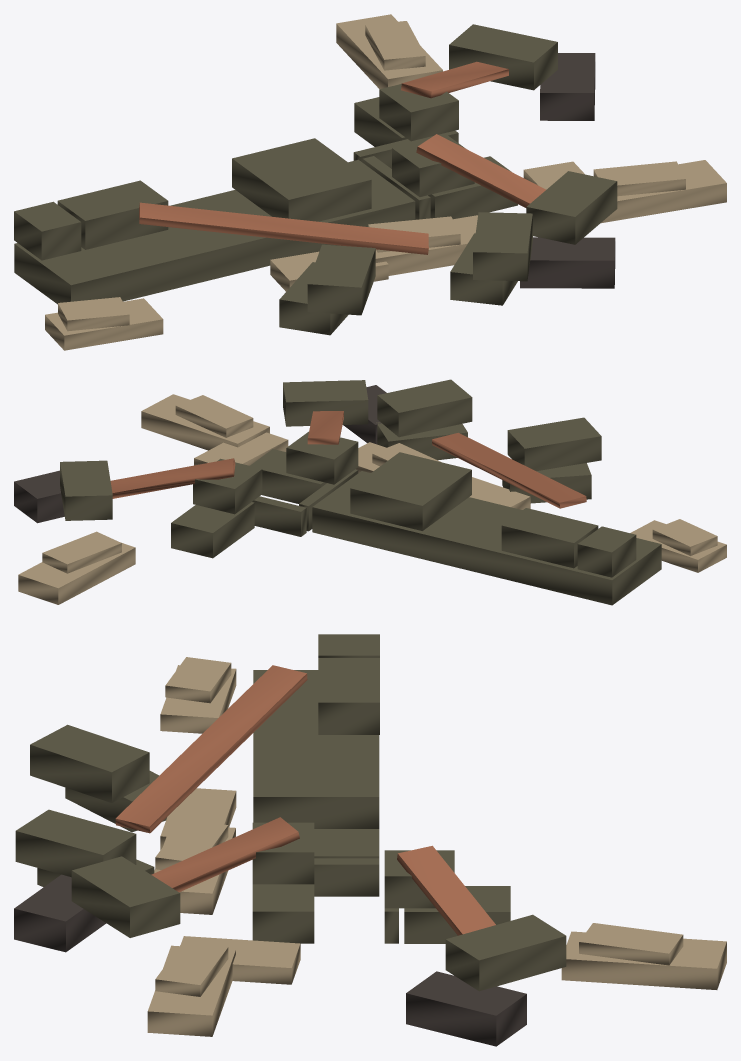
Rendered from SM_SacosRemateEspejo_v3_Tablon_e2_MuyDanado_LOD1.fbx.
The picture shows the model from 3 angles, top to bottom: view 1: azimuth 30°, elevation 25°; view 2: azimuth 150°, elevation 25°; view 3: azimuth 270°, elevation 25°; orthographic projection. The views are drawn at different scales.
Parts seen in each view (by area): view 1: SM_sacos_piezas_v34_LOD1; view 2: SM_sacos_piezas_v34_LOD1; view 3: SM_sacos_piezas_v34_LOD1.
Part boxes in pixels (<box>): SM_sacos_piezas_v34_LOD1: <box>14,14,726,350</box>; SM_sacos_piezas_v34_LOD1: <box>14,379,726,605</box>; SM_sacos_piezas_v34_LOD1: <box>14,634,726,1046</box>.
Bounding box in the file's own units: 6.58 × 0.6798 × 5.44.
